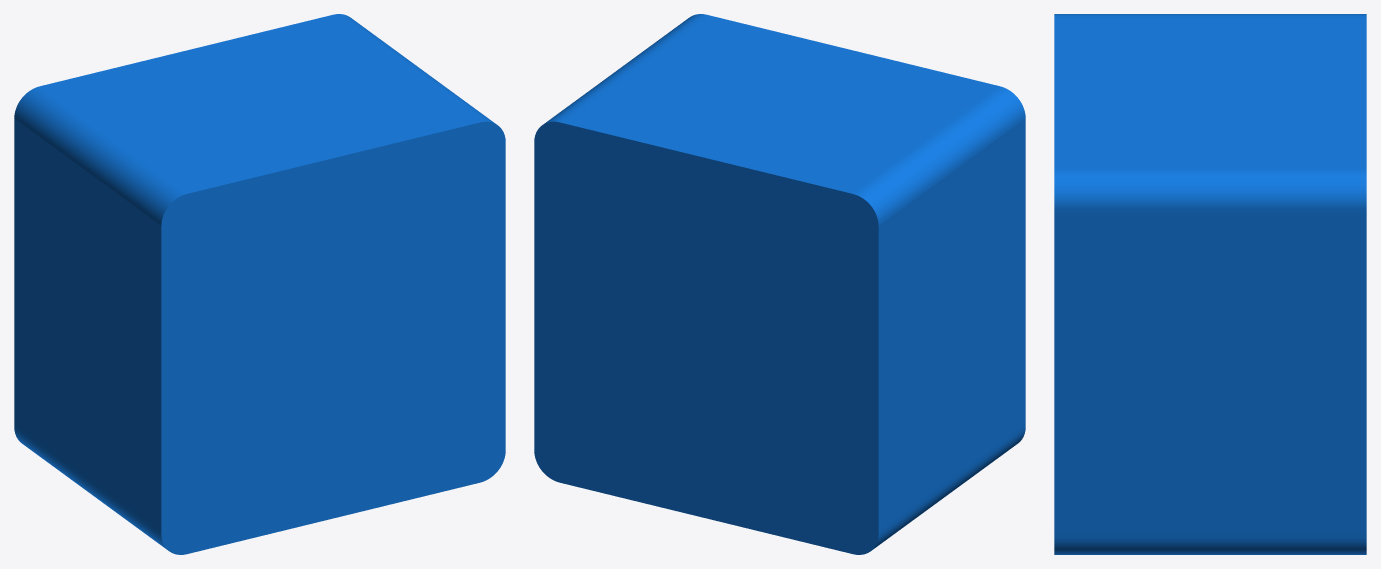
3 renders of one model, left to right at view 1: azimuth 30°, elevation 25°; view 2: azimuth 150°, elevation 25°; view 3: azimuth 270°, elevation 25°, orthographic. The views are drawn at different scales.
Visible parts, largest first — view 1: Object_14; view 2: Object_14; view 3: Object_14.
Boxes of the visible parts, x1,y1,x2,y2 form: Object_14: (14,14,505,554); Object_14: (534,14,1025,554); Object_14: (1054,14,1366,554).
Bounding box in the file's own units: 3.47 × 3.47 × 2.56.
